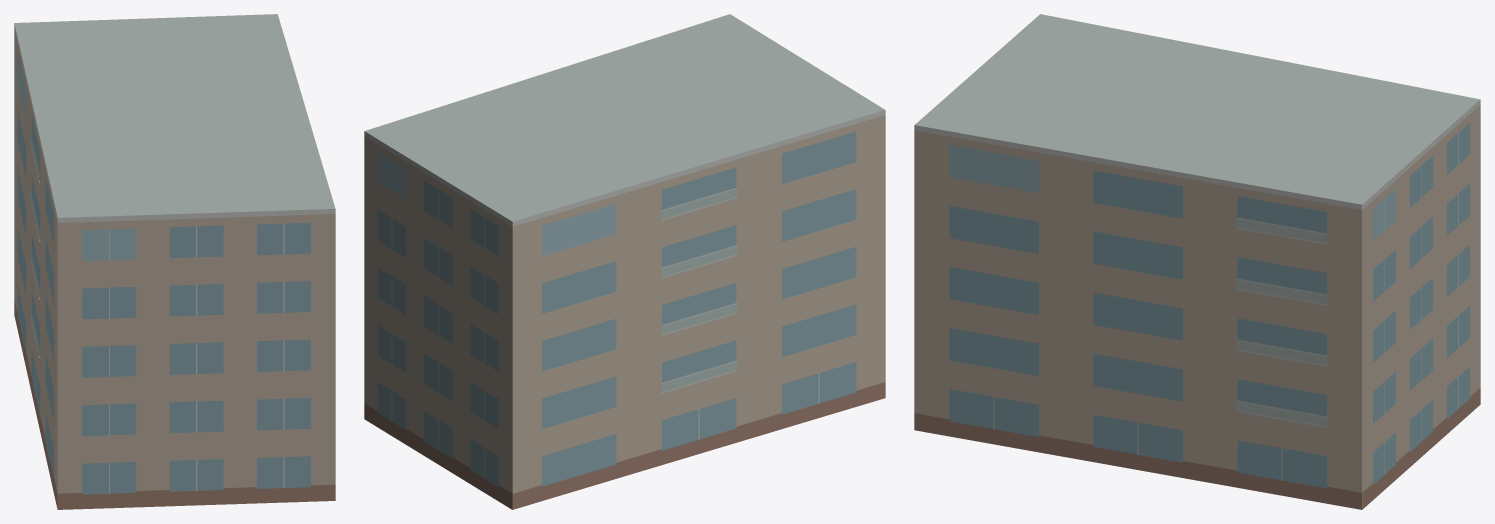
File: survey-upis-32780474.glb
3 renders of one model, left to right at view 1: azimuth 30°, elevation 25°; view 2: azimuth 150°, elevation 25°; view 3: azimuth 270°, elevation 25°, orthographic. The views are drawn at different scales.
Parts seen in each view (by area): view 1: survey-upis-32780474.tmp; view 2: survey-upis-32780474.tmp; view 3: survey-upis-32780474.tmp.
Part boxes in pixels (x1,y1,x2,y2): survey-upis-32780474.tmp: [14, 14, 335, 509]; survey-upis-32780474.tmp: [364, 14, 885, 509]; survey-upis-32780474.tmp: [914, 14, 1480, 509].
Size of the model in its own units: 18.78 by 14 by 23.55.
